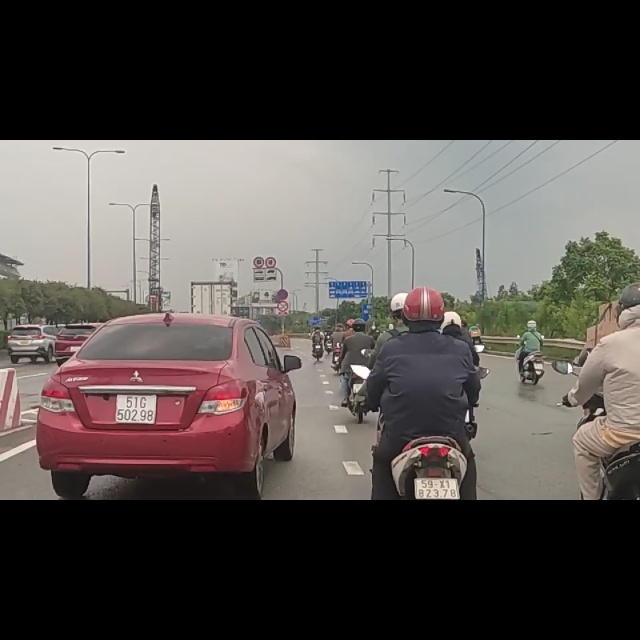bien_cam: (276, 265, 289, 285)
